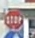stop: (4, 8, 24, 30)
